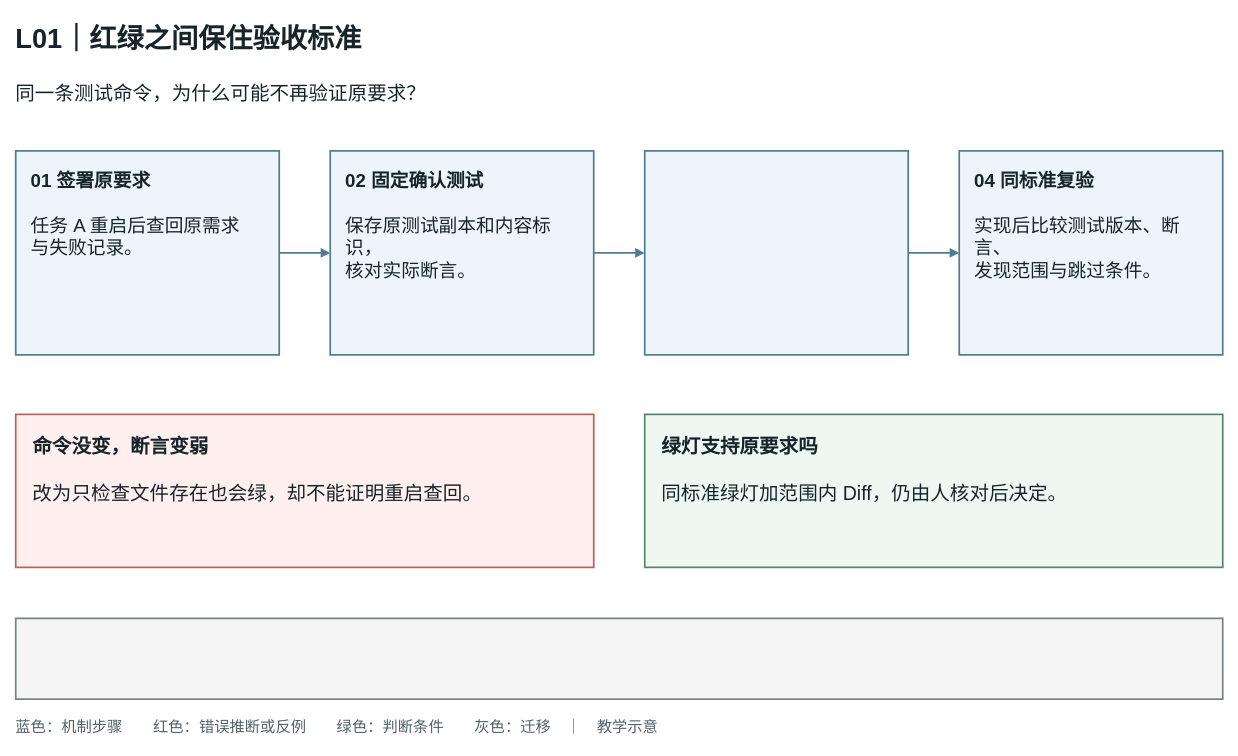
This 1238x756 diagram has some shape labels left out. The shapes that lost their labels are listed below. From the top down, each one's box as (x1, y1, x2, y2) in pixels, then its label:
(643, 150, 909, 355): 03 取得有效红灯 同一测试确实运行，失败来 自保存或读回能力缺失。
(14, 617, 1223, 700): 迁移到文档校对 锁定校对依据与范围，不能换成只检查文档能打开。
